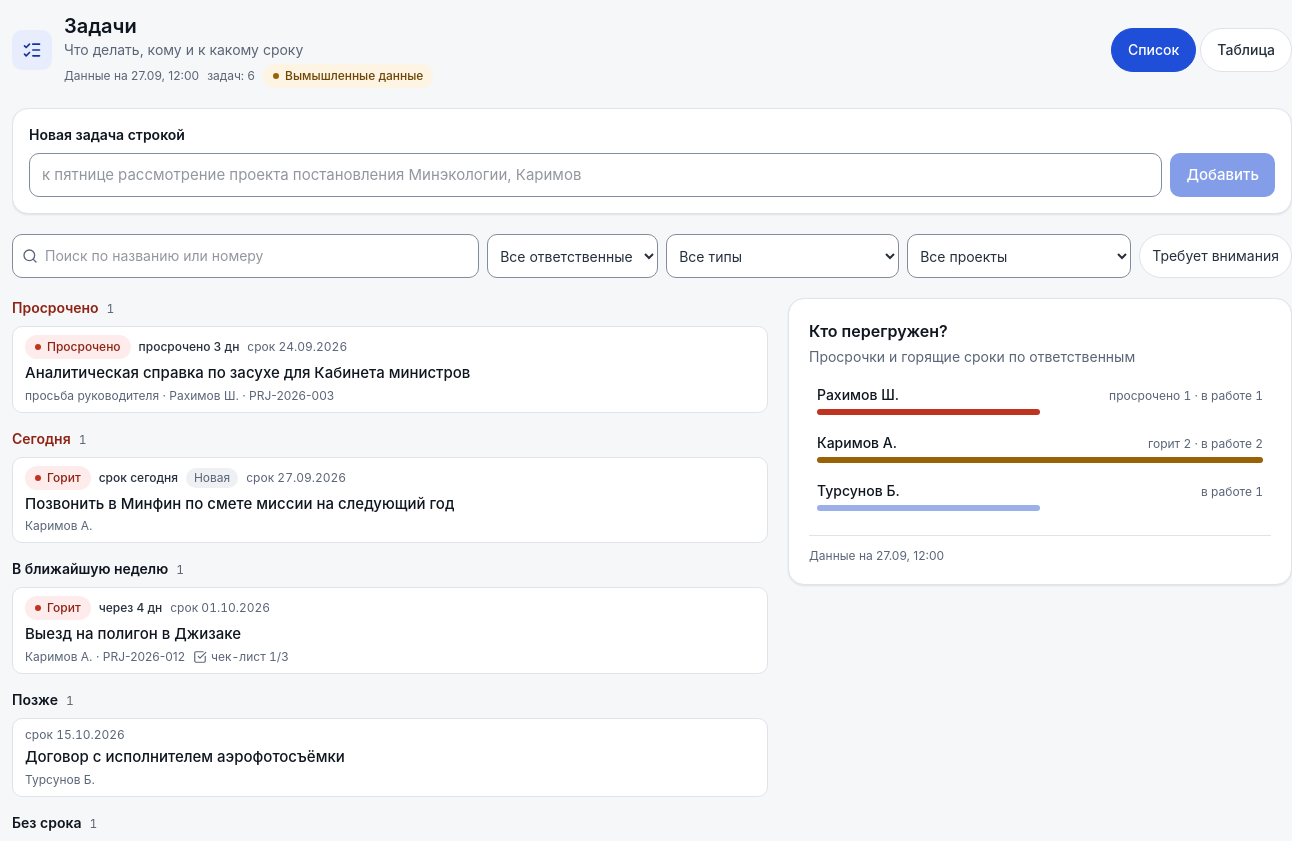
Test case: Задачи › «Кто перегружен?» — касание оставляет задачи человека
Click the button with aria-label "Показать задачи: Турсунов Б.".
click(858, 490)  # box [809,475,1271,519]
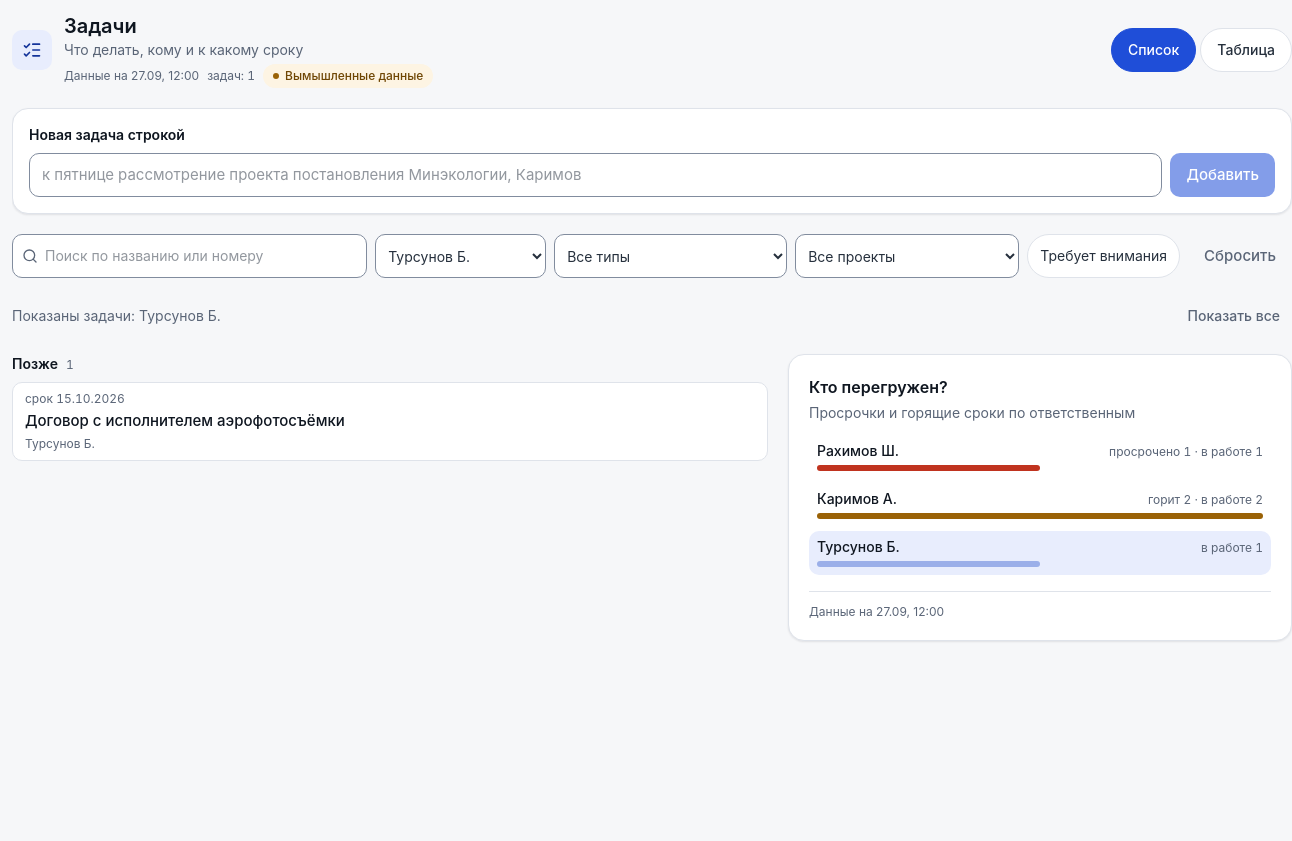
expect the text "Договор с исполнителем аэрофотосъёмки" is shown: met, box [25,411,345,432]
expect the text "Показаны задачи: Турсунов Б." is shown: met, box [12,307,221,324]
expect the button "Выезд на полигон в Джизаке" is gone: met
Click the button "Показать все".
click(1234, 316)  # box [1176,298,1291,334]
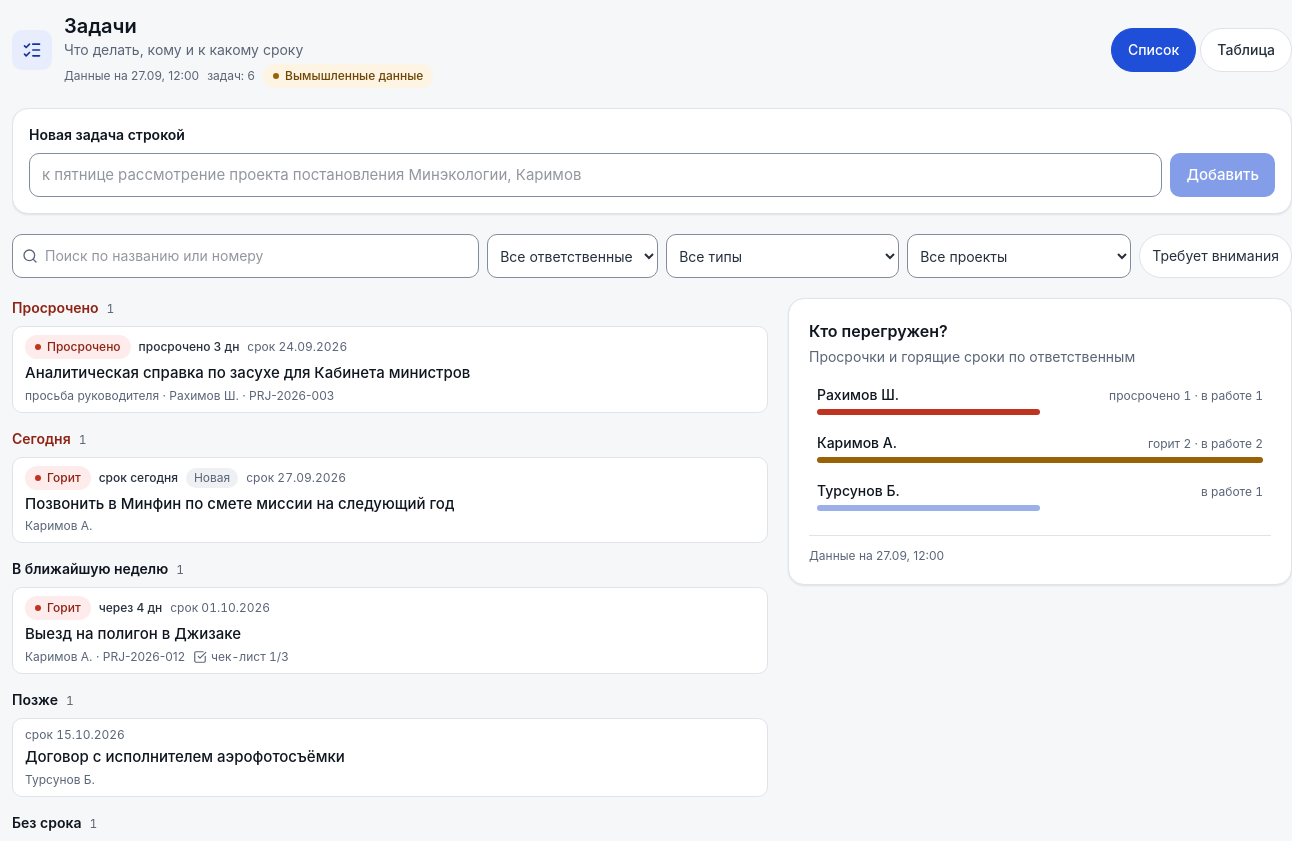
expect the text "Выезд на полигон в Джизаке" is shown: met, box [25,624,241,645]
